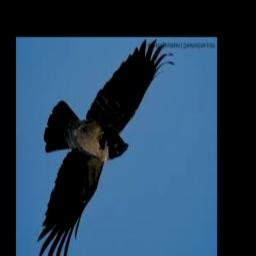Crow: (37, 38, 174, 256)
